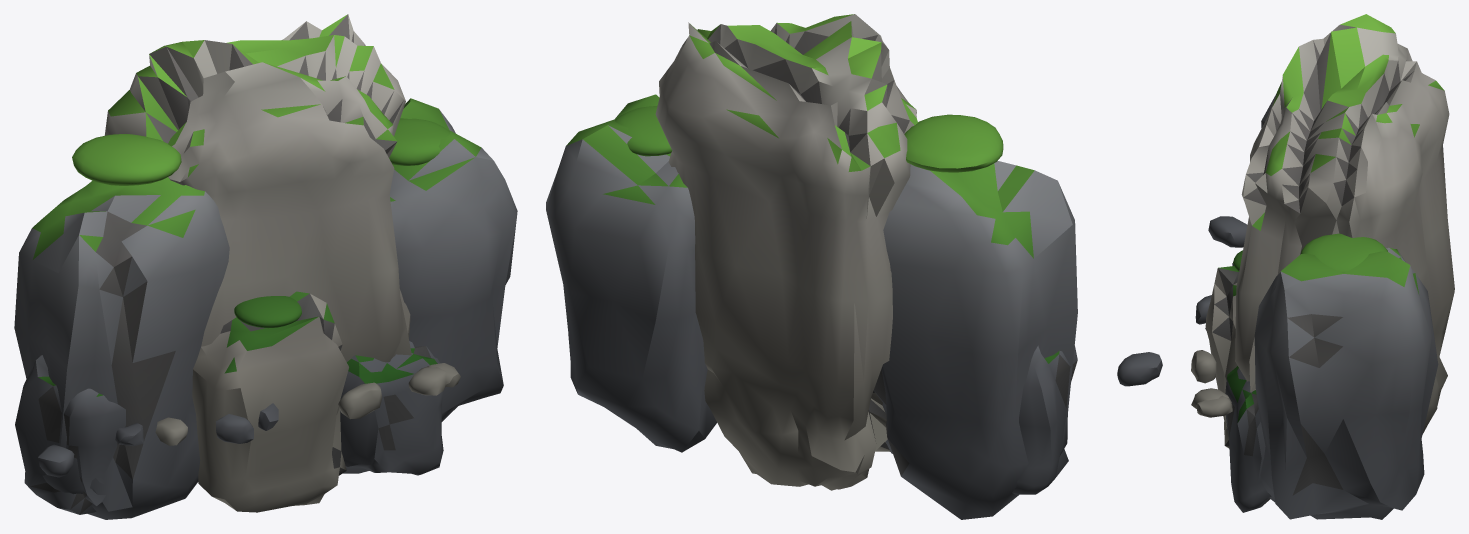
Rendered from Cliff_B.fbx.
3 renders of one model, left to right at view 1: azimuth 30°, elevation 25°; view 2: azimuth 150°, elevation 25°; view 3: azimuth 270°, elevation 25°, orthographic. The views are drawn at different scales.
Visible parts, largest first — view 1: Cliff_B_LOD0; view 2: Cliff_B_LOD0; view 3: Cliff_B_LOD0.
Boxes of the visible parts, box(x1,y1,x2,y2) form: Cliff_B_LOD0: box(14, 14, 517, 519); Cliff_B_LOD0: box(546, 14, 1162, 519); Cliff_B_LOD0: box(1191, 14, 1454, 519).
Size of what is drawn, in the model's own units: 19.74 by 16.51 by 9.33.
Materials: 1 (1 with a texture image).
